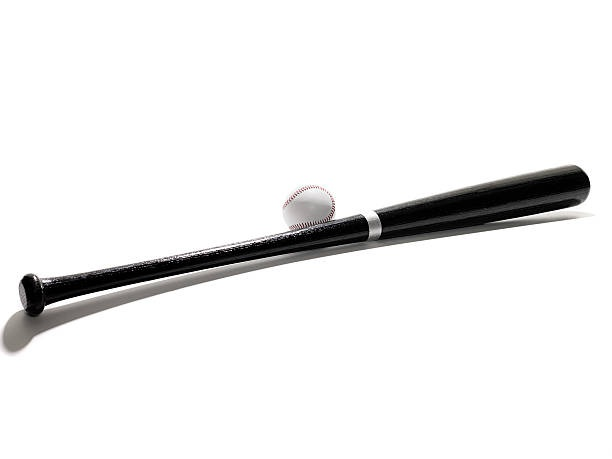bita: (16, 166, 593, 312)
